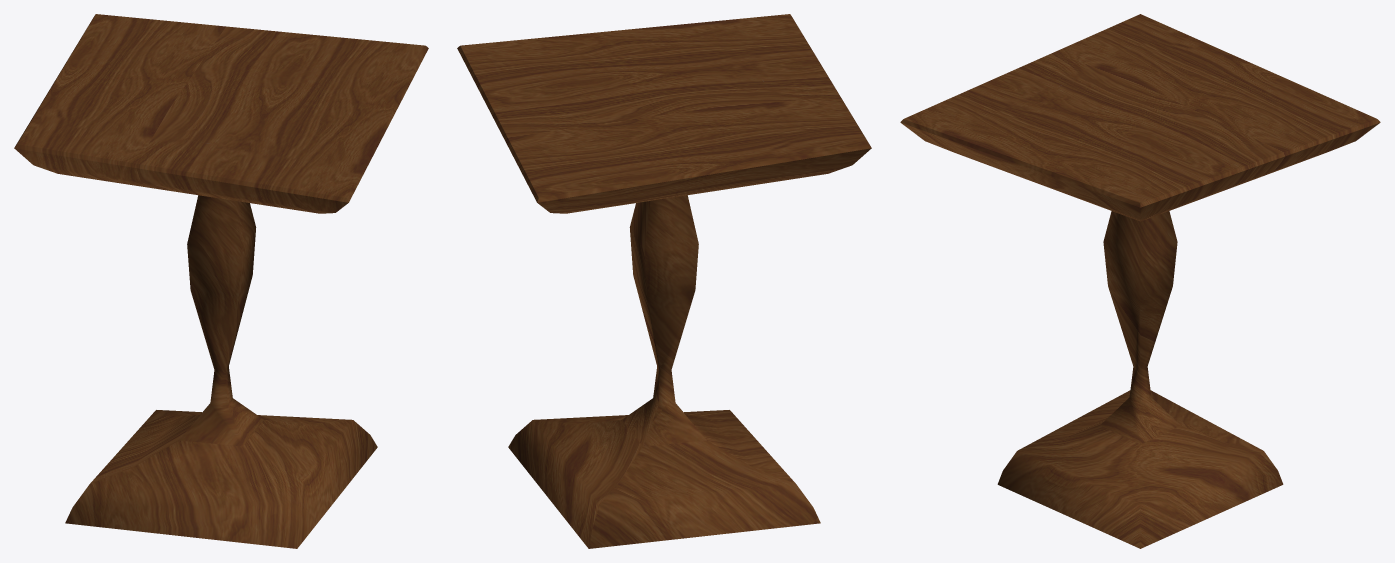
Rendered from Misc_SquareTable.fbx.
The picture shows the model from 3 angles, left to right: view 1: azimuth 30°, elevation 25°; view 2: azimuth 150°, elevation 25°; view 3: azimuth 270°, elevation 25°; orthographic projection. The views are drawn at different scales.
Visible parts, largest first — view 1: SquareTableUVd:revolvedSurface3; view 2: SquareTableUVd:revolvedSurface3; view 3: SquareTableUVd:revolvedSurface3.
Boxes of the visible parts, bbox=[...] form: SquareTableUVd:revolvedSurface3: bbox=[14, 14, 428, 548]; SquareTableUVd:revolvedSurface3: bbox=[457, 14, 871, 548]; SquareTableUVd:revolvedSurface3: bbox=[900, 14, 1380, 548].
Bounding box in the file's own units: 110 × 101 × 117.
